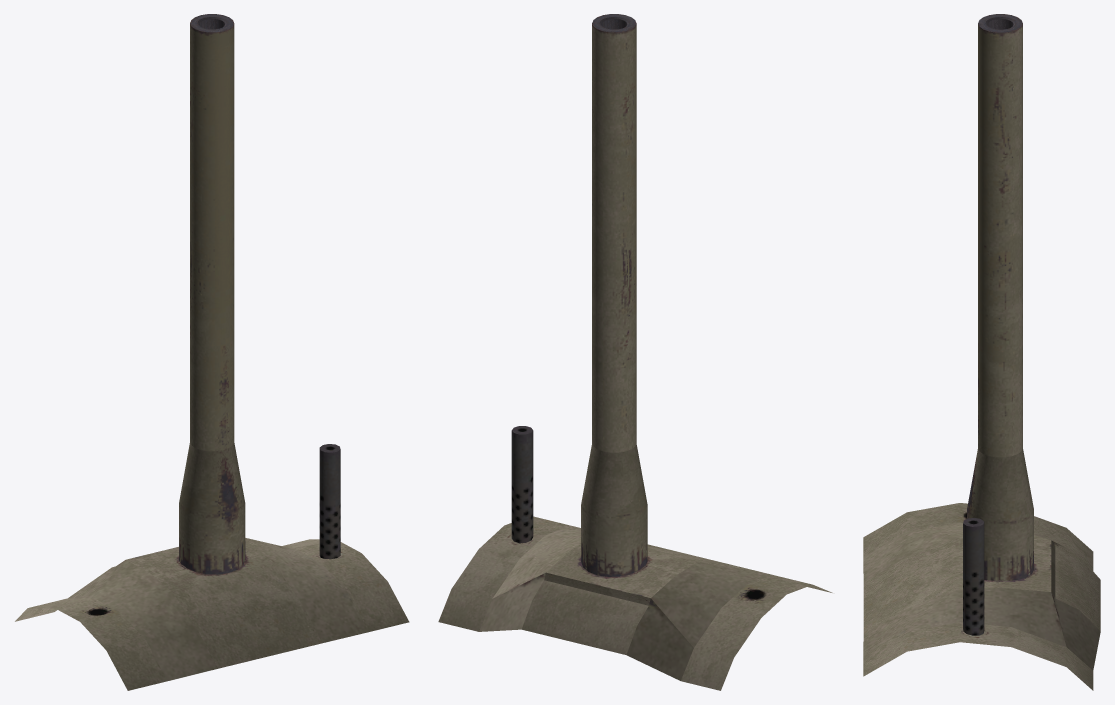
File: Gun_01.glb
The picture shows the model from 3 angles, left to right: view 1: azimuth 30°, elevation 25°; view 2: azimuth 150°, elevation 25°; view 3: azimuth 270°, elevation 25°; orthographic projection.
Visible parts, largest first — view 1: set_0_group_0; view 2: set_0_group_0; view 3: set_0_group_0.
Part boxes in pixels (bbox=[...]): set_0_group_0: bbox=[15, 14, 409, 690]; set_0_group_0: bbox=[438, 14, 832, 690]; set_0_group_0: bbox=[863, 14, 1100, 690].
Size of the model in its own units: 0.7289 by 1.47 by 0.5249.
Materials: 1 (1 with a texture image).
